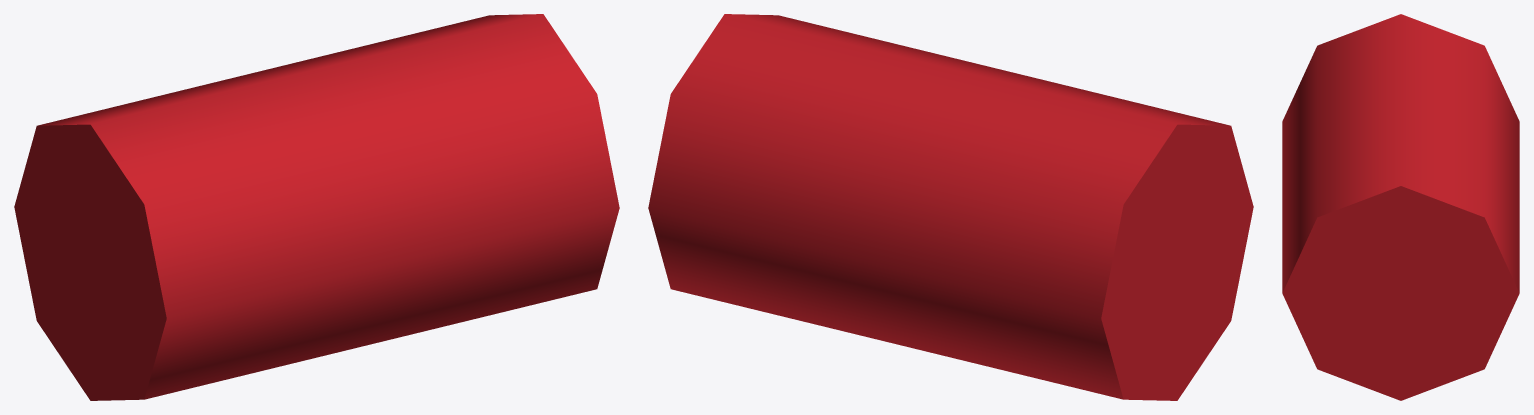
Rendered from trash-can.obj.
3 views of the same model, side by side, from view 1: azimuth 30°, elevation 25°; view 2: azimuth 150°, elevation 25°; view 3: azimuth 270°, elevation 25° (orthographic). The views are drawn at different scales.
Parts seen in each view (by area): view 1: part1.nocast; view 2: part1.nocast; view 3: part1.nocast.
Boxes of the visible parts, x1=… form: part1.nocast: x1=14, y1=14, x2=619, y2=400; part1.nocast: x1=648, y1=14, x2=1253, y2=400; part1.nocast: x1=1282, y1=14, x2=1519, y2=400.
Size of the model in its own units: 0.12 by 0.07 by 0.07.
